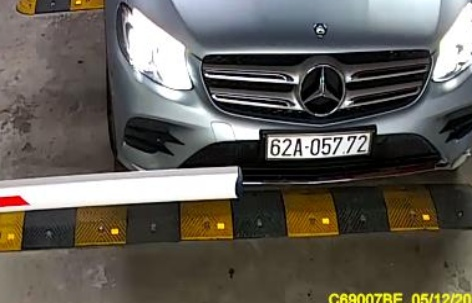plate: (258, 124, 381, 165)
